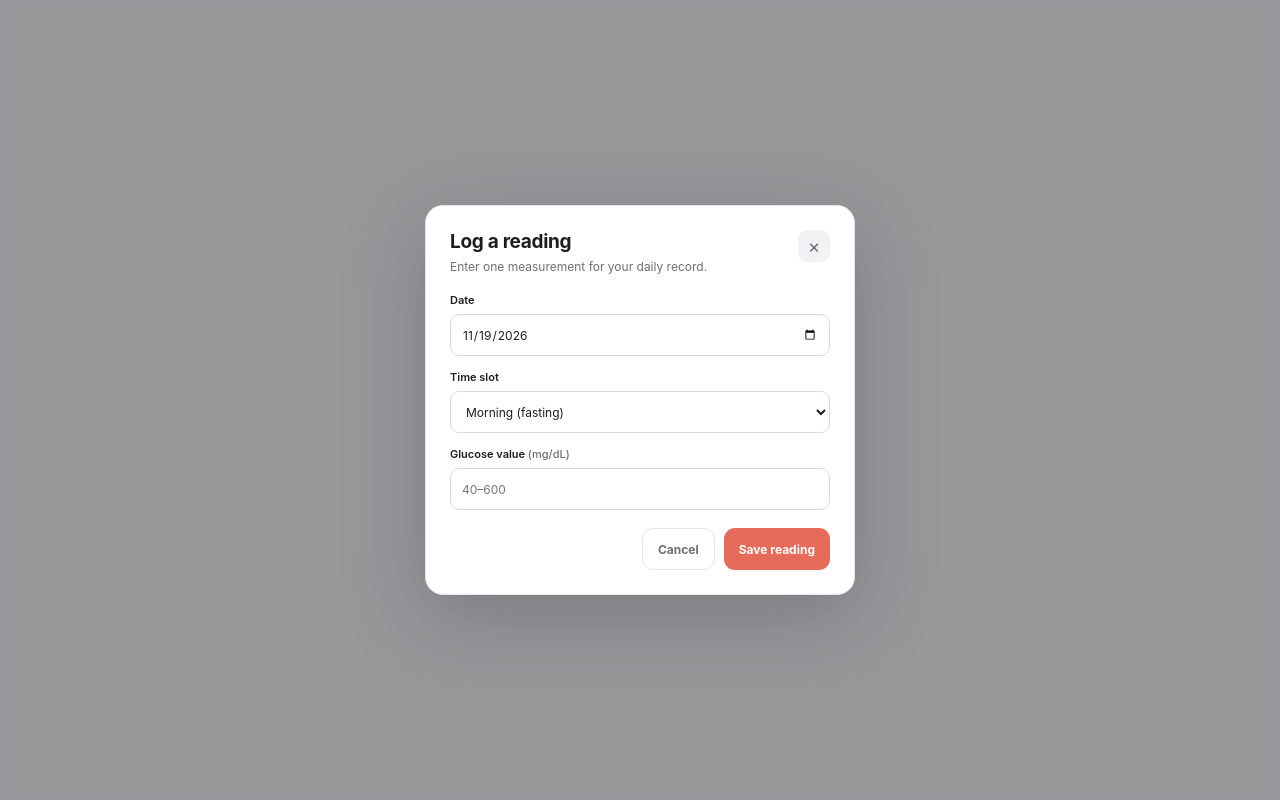
Test: reading form › rejects readings outside the supported range
In the number field labelled "Glucose value (mg/dL)": (640, 489) [450, 468, 830, 510], type "601"
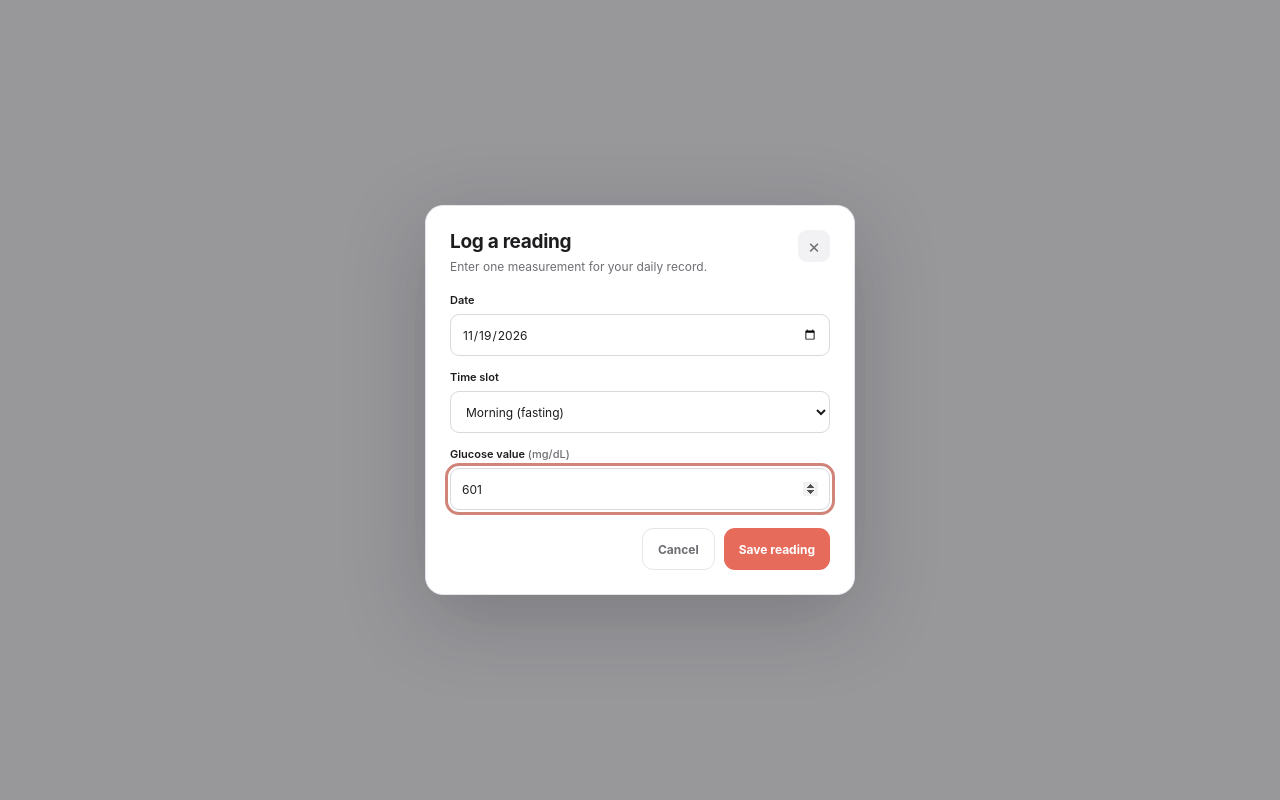
Click the button "Save reading": (777, 549) [724, 528, 830, 570]
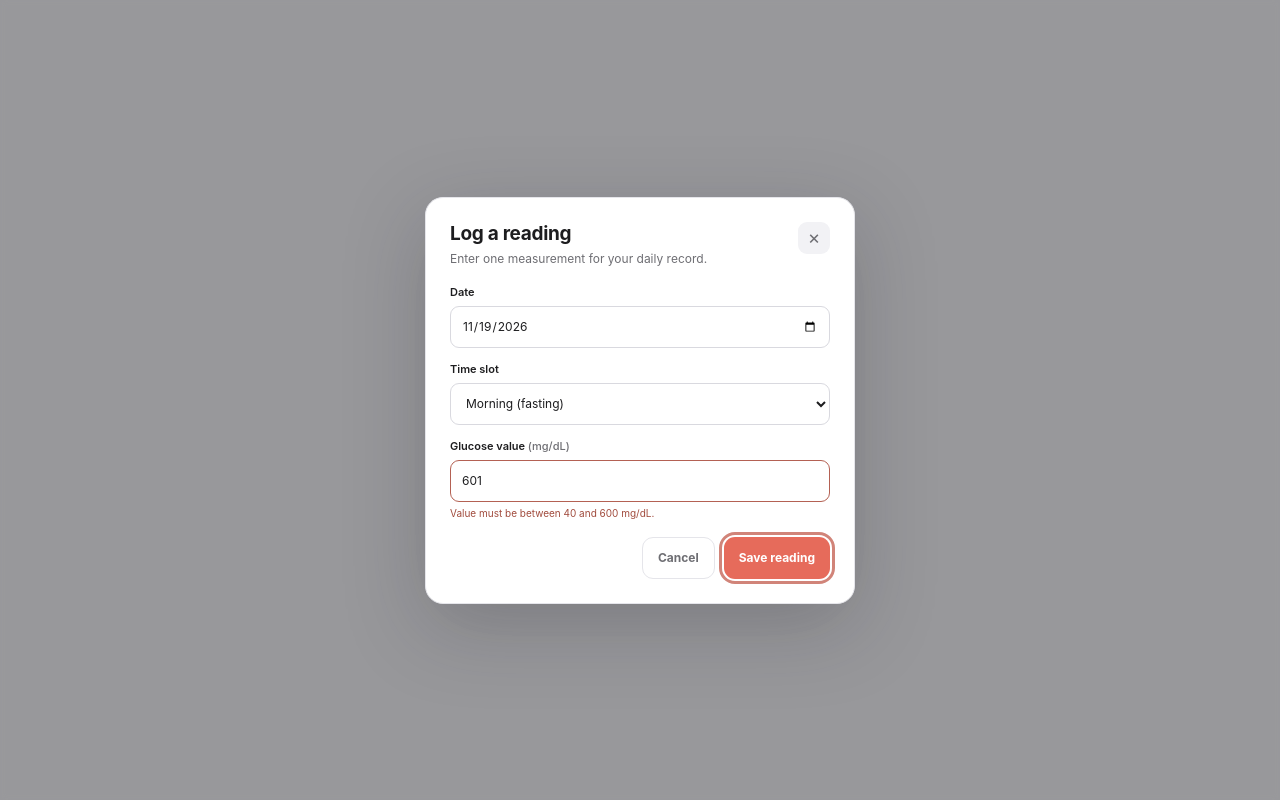
Now the text "Value must be between 40 and 600 mg/dL." is shown, box [450, 506, 654, 518]
